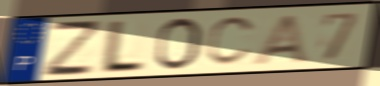7: (319, 11, 361, 63)
A: (250, 13, 311, 65)
C: (204, 14, 258, 68)
L: (96, 18, 148, 75)
O: (151, 16, 203, 72)
Z: (42, 20, 101, 79)
